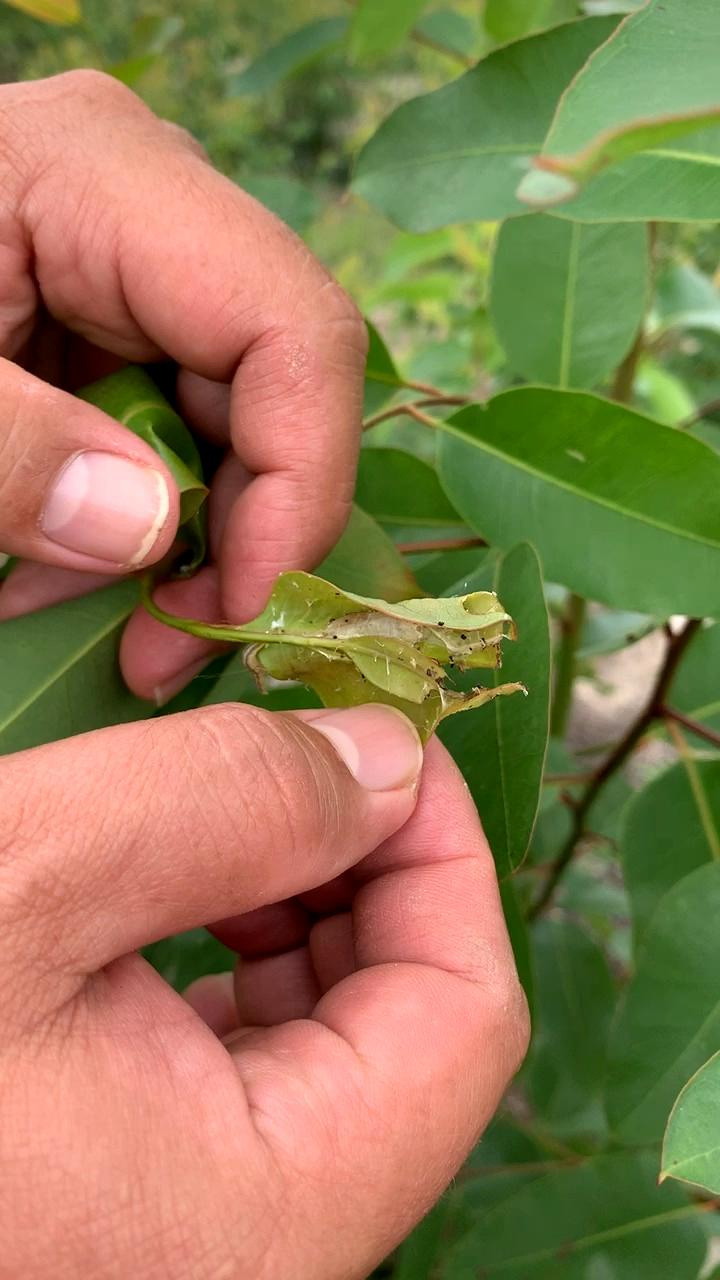Leaf Roller - Leaf: (223, 568, 531, 747)
